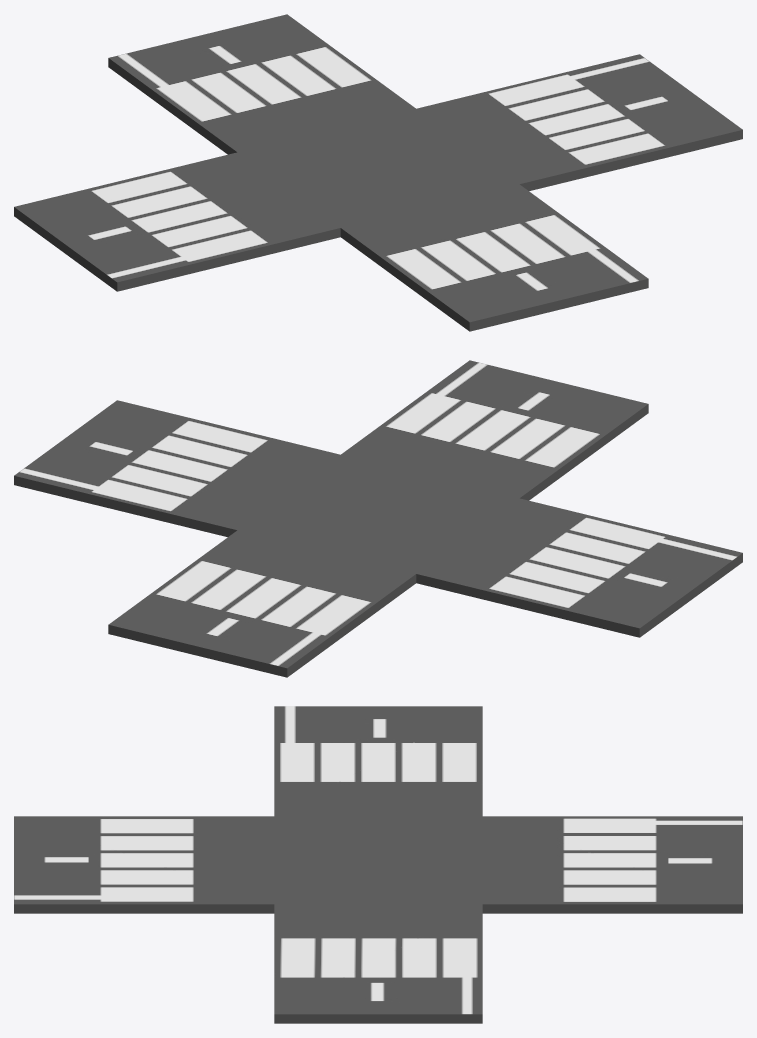
Rendered from MSH_StreetCross.fbx.
3 views of the same model, one above another, from view 1: azimuth 30°, elevation 25°; view 2: azimuth 150°, elevation 25°; view 3: azimuth 270°, elevation 25° (orthographic).
Visible parts, largest first — view 1: MSH_StreetPath CROSS; view 2: MSH_StreetPath CROSS; view 3: MSH_StreetPath CROSS.
Boxes of the visible parts, x1,y1,x2,y2 form: MSH_StreetPath CROSS: (14, 14, 742, 331); MSH_StreetPath CROSS: (14, 360, 742, 677); MSH_StreetPath CROSS: (14, 706, 742, 1023).
Size of the model in its own units: 1400 by 1400 by 20.
